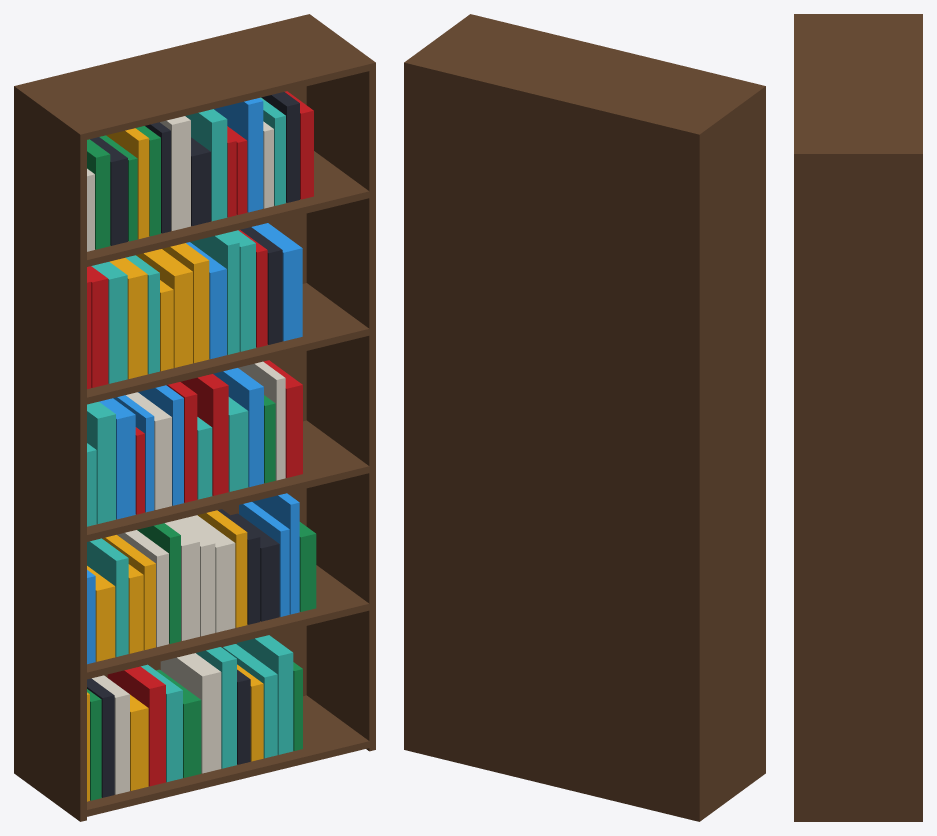
3 views of the same model, side by side, from view 1: azimuth 30°, elevation 25°; view 2: azimuth 150°, elevation 25°; view 3: azimuth 270°, elevation 25° (orthographic). The views are drawn at different scales.
Parts seen in each view (by area): view 1: walnut, accent_teal, paper, accent_amber, plastic_blue, accent_red, plastic_dark, safety_green; view 2: walnut; view 3: walnut.
Boxes of the visible parts, box(x1,y1,x2,y2) form: walnut: box(14, 14, 375, 821); accent_teal: box(87, 97, 293, 781); paper: box(87, 116, 285, 794); accent_amber: box(87, 128, 263, 801); plastic_blue: box(87, 98, 302, 664); accent_red: box(87, 91, 313, 786); plastic_dark: box(87, 92, 299, 797); safety_green: box(87, 126, 316, 800); walnut: box(404, 14, 765, 821); walnut: box(794, 14, 922, 821).
Size of the model in its own units: 0.9 by 2 by 0.35.
